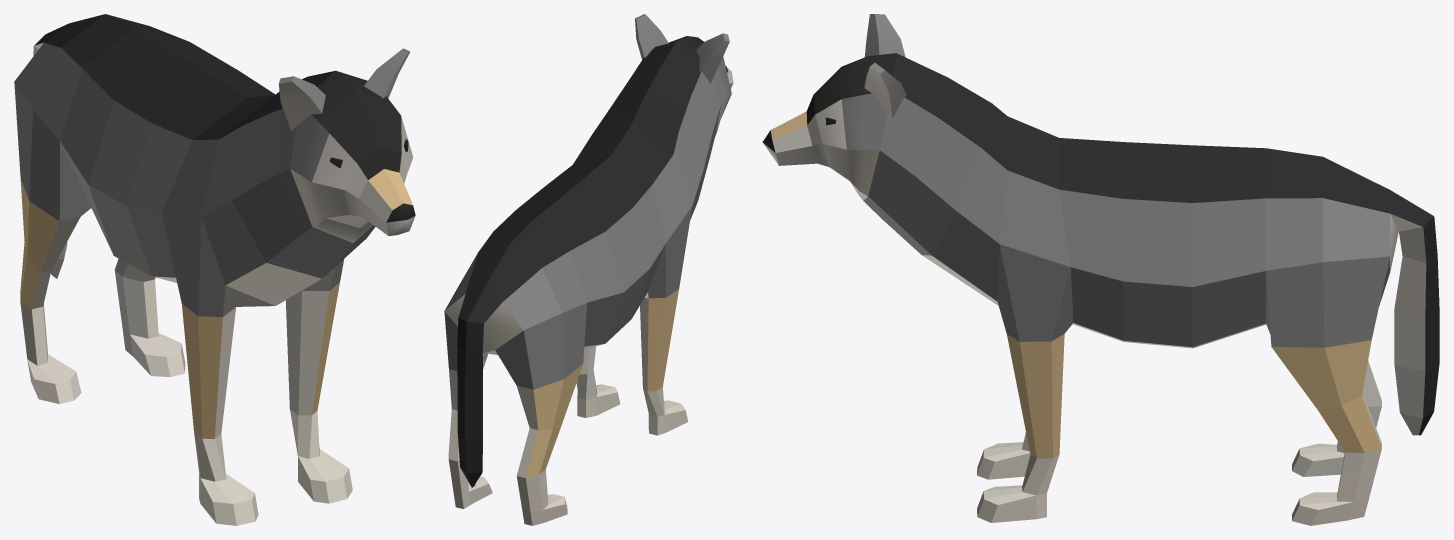
Rendered from wolf.glb.
3 renders of one model, left to right at view 1: azimuth 30°, elevation 25°; view 2: azimuth 150°, elevation 25°; view 3: azimuth 270°, elevation 25°, orthographic. The views are drawn at different scales.
Visible parts, largest first — view 1: Geo_Wolf; view 2: Geo_Wolf; view 3: Geo_Wolf.
Part boxes in pixels (x1,y1,x2,y2): Geo_Wolf: [14, 14, 415, 525]; Geo_Wolf: [444, 14, 733, 525]; Geo_Wolf: [762, 14, 1439, 525].
Size of the model in its own units: 50.03 by 134 by 180.
1 material, 1 textured.
